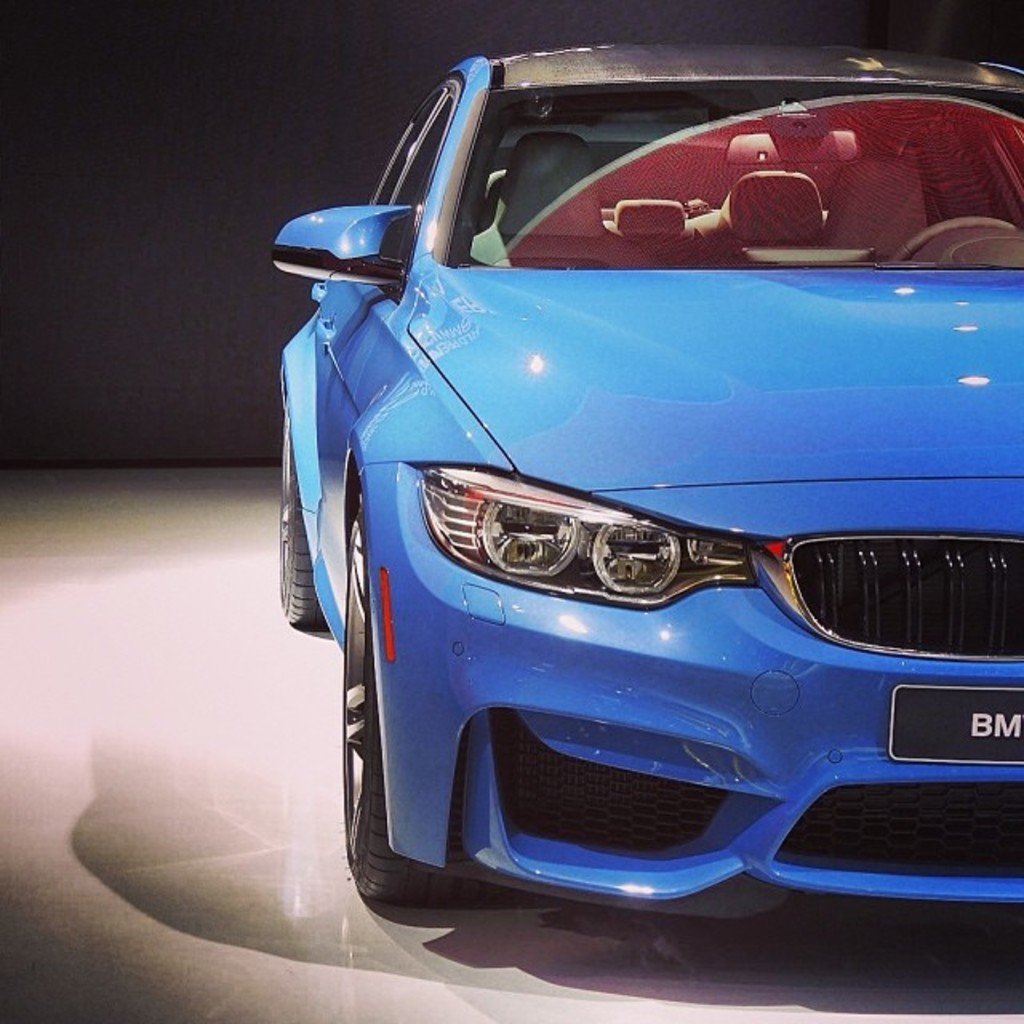Car: (248, 44, 1009, 955)
